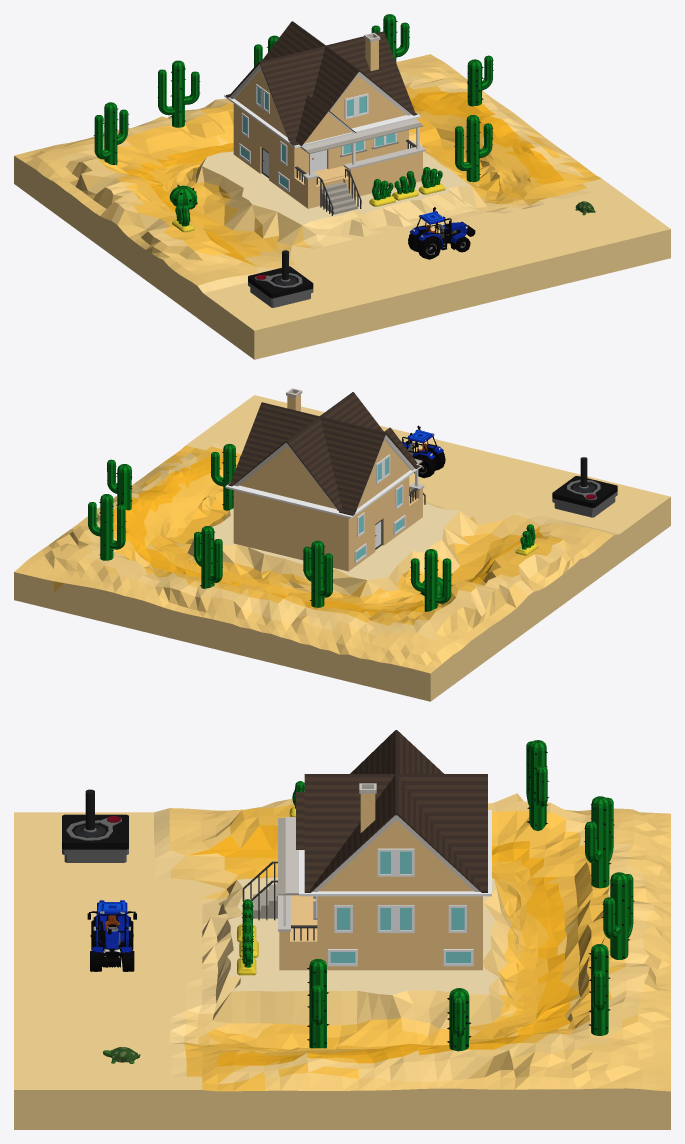
3 renders of one model, top to bottom at view 1: azimuth 30°, elevation 25°; view 2: azimuth 150°, elevation 25°; view 3: azimuth 270°, elevation 25°, orthographic. The views are drawn at different scales.
Visible parts, largest first — view 1: Cube.001, Cube.235, OBJRANDOM_JOYSTICK, VEHICLES_TRACTOR, Cylinder.037, Cylinder.044, Cylinder.045, Cylinder.038, Cylinder.042, Cylinder.039, Cylinder.041, Sphere.023 (+1 smaller); view 2: Cube.001, Cube.235, OBJRANDOM_JOYSTICK, Cylinder.042, Cylinder.045, Cylinder.044, Cylinder.043, VEHICLES_TRACTOR, Cylinder.037, Cylinder.038; view 3: Cube.001, Cube.235, OBJRANDOM_JOYSTICK, VEHICLES_TRACTOR, Cylinder.043, Cylinder.044, Cylinder.045, Cylinder.042, Cylinder.037, Cylinder.038, Cylinder.041.
Boxes of the visible parts, x1,y1,x2,y2 form: Cube.001: (14, 54, 670, 359); Cube.235: (224, 21, 425, 215); OBJRANDOM_JOYSTICK: (248, 250, 313, 307); VEHICLES_TRACTOR: (408, 207, 475, 259); Cylinder.037: (454, 115, 493, 182); Cylinder.044: (157, 60, 200, 127); Cylinder.045: (93, 102, 129, 164); Cylinder.038: (467, 55, 493, 106); Cylinder.042: (371, 14, 409, 62); Cylinder.039: (369, 179, 395, 206); Cylinder.041: (418, 167, 445, 194); Sphere.023: (169, 184, 197, 209); Cube.001: (14, 395, 670, 701); Cube.235: (225, 388, 425, 571); OBJRANDOM_JOYSTICK: (552, 457, 617, 517); Cylinder.042: (88, 494, 126, 560); Cylinder.045: (410, 549, 452, 611); Cylinder.044: (303, 540, 333, 607); Cylinder.043: (193, 526, 222, 588); VEHICLES_TRACTOR: (401, 425, 445, 478); Cylinder.037: (211, 444, 240, 510); Cylinder.038: (107, 459, 131, 510); Cube.001: (14, 793, 670, 1129); Cube.235: (242, 730, 491, 970); OBJRANDOM_JOYSTICK: (62, 789, 128, 862); VEHICLES_TRACTOR: (87, 900, 136, 971); Cylinder.043: (602, 872, 634, 959); Cylinder.044: (584, 796, 614, 888); Cylinder.045: (526, 740, 549, 830); Cylinder.042: (588, 944, 610, 1035); Cylinder.037: (307, 959, 329, 1048); Cylinder.038: (447, 988, 471, 1051); Cylinder.041: (237, 932, 256, 975).
Bounding box in the file's own units: 4002 × 1779 × 4001.
38 materials, 2 textured.
